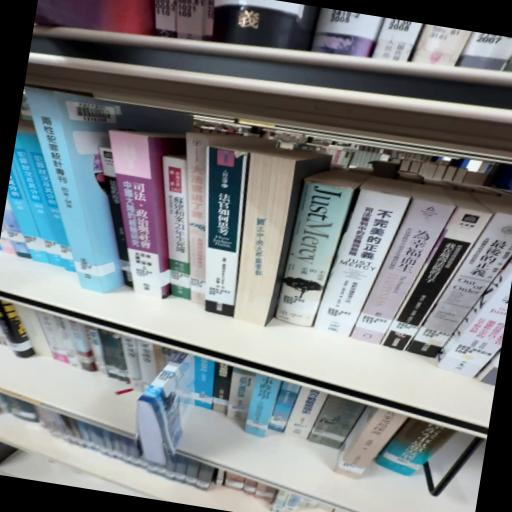backward: (233, 148, 330, 325)
